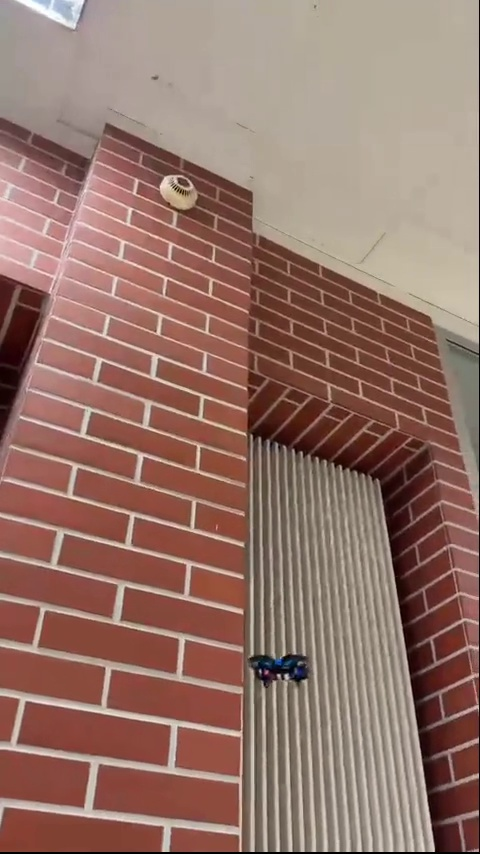drone: (247, 649, 315, 685)
